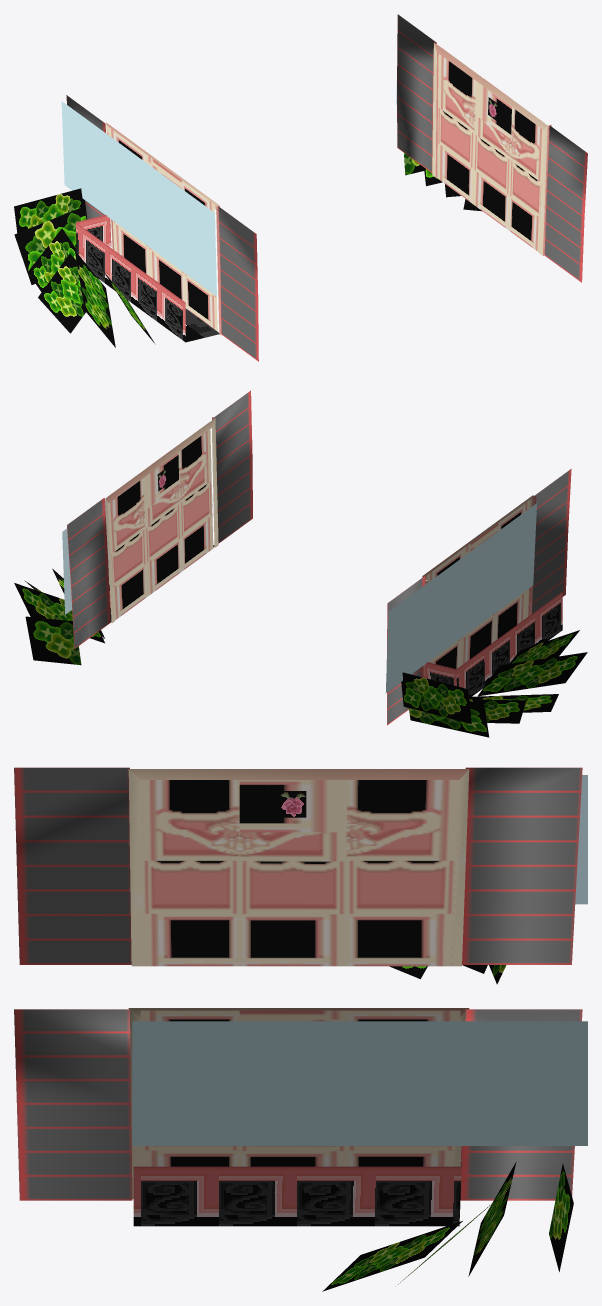
The picture shows the model from 3 angles, top to bottom: view 1: azimuth 30°, elevation 25°; view 2: azimuth 150°, elevation 25°; view 3: azimuth 270°, elevation 25°; orthographic projection. The views are drawn at different scales.
Visible parts, largest first — view 1: m00_kb4; view 2: m00_kb4; view 3: m00_kb4.
Part boxes in pixels (x1,y1,x2,y2): m00_kb4: (14, 14, 587, 361); m00_kb4: (14, 390, 587, 737); m00_kb4: (14, 767, 587, 1291).
Bounding box in the file's own units: 8.45 × 2.46 × 5.35.
6 materials, 6 textured.
